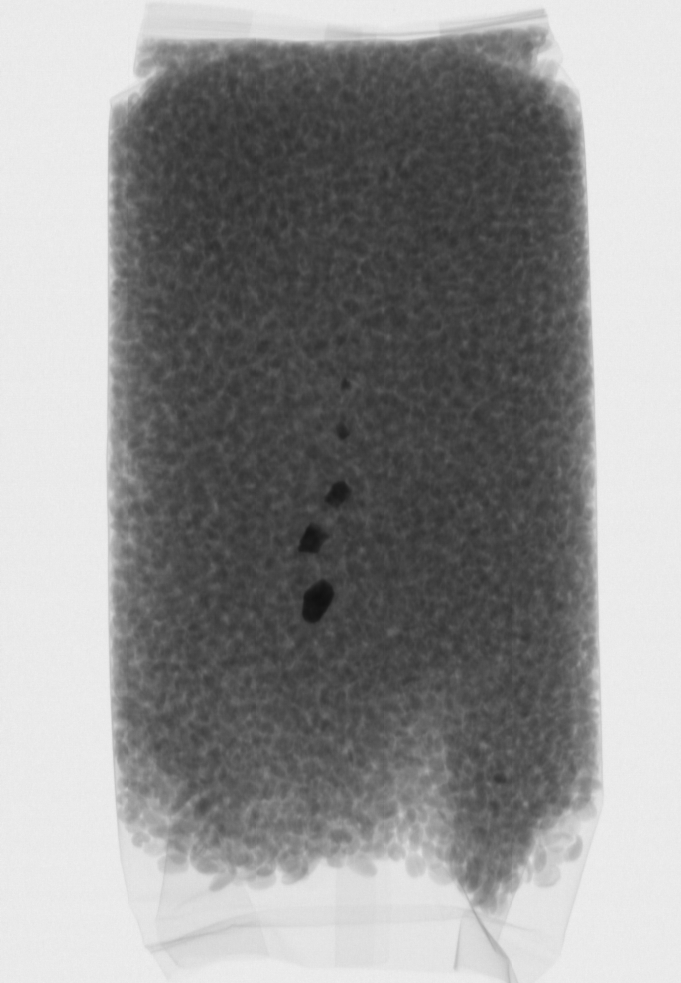stone: (296, 576, 338, 627), (294, 518, 331, 560), (322, 477, 355, 511), (336, 419, 356, 443), (334, 374, 354, 392)
stone_area: (277, 352, 369, 643)
